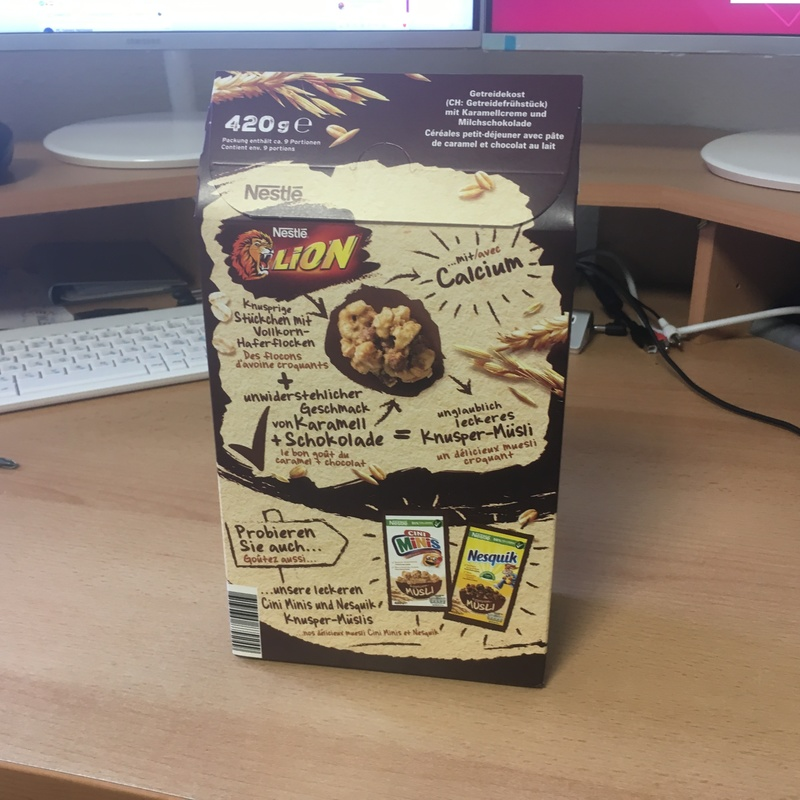cereals: (198, 68, 586, 689)
